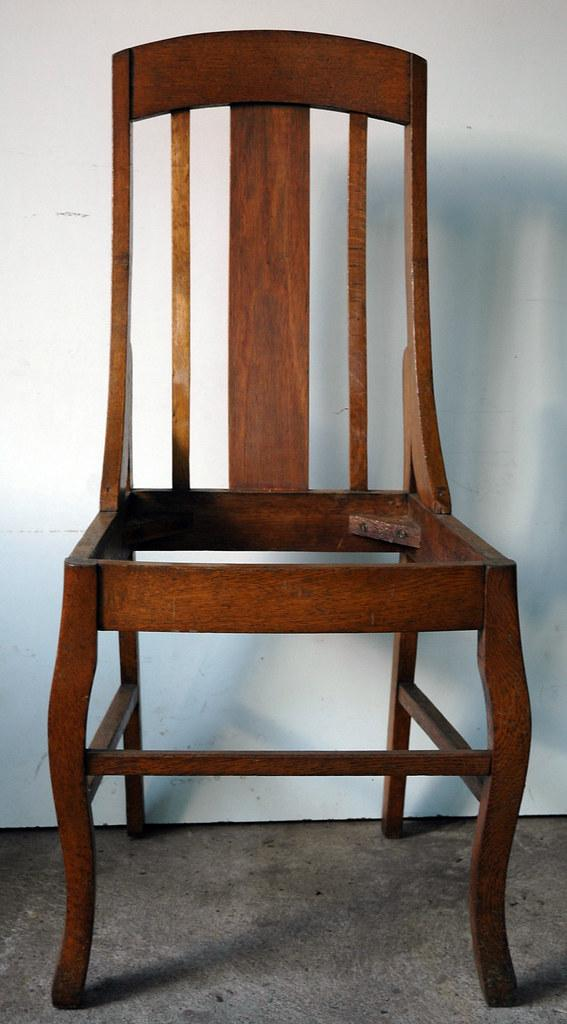chair: (48, 29, 534, 1011)
